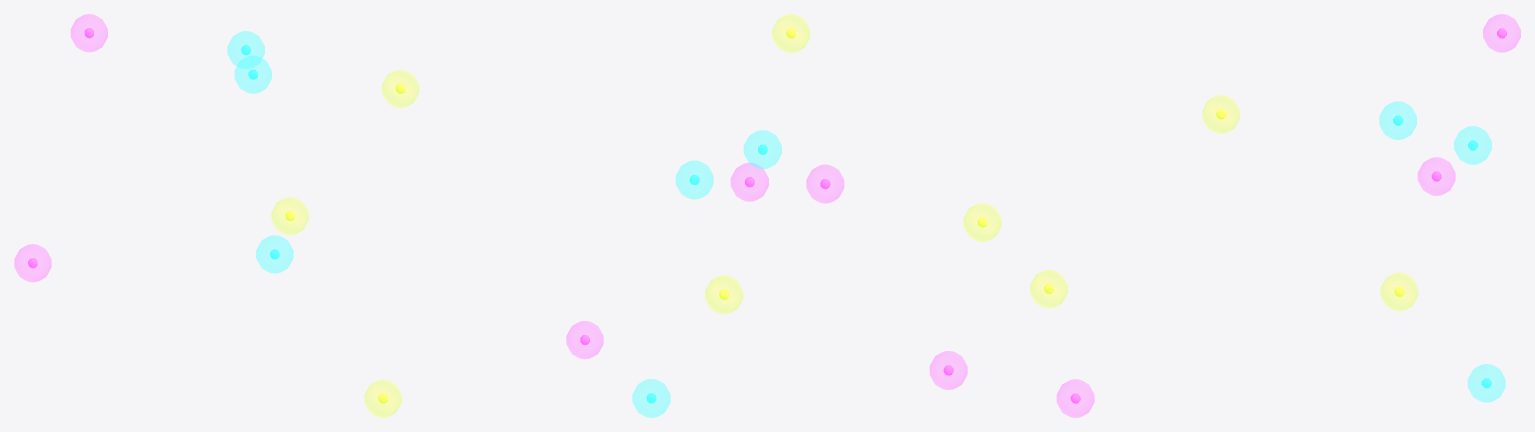
The model's file is city_glow_motes.glb.
3 views of the same model, side by side, from view 1: azimuth 30°, elevation 25°; view 2: azimuth 150°, elevation 25°; view 3: azimuth 270°, elevation 25° (orthographic).
Parts seen in each view (by area): view 1: CityGlowMotes_Mote0_Halo, CityGlowMotes_Mote4_Halo, CityGlowMotes_Mote2_Halo, CityGlowMotes_Mote5_Halo, CityGlowMotes_Mote1_Halo, CityGlowMotes_Mote6_Halo, CityGlowMotes_Mote7_Halo, CityGlowMotes_Mote3_Halo, CityGlowMotes_Mote8_Halo; view 2: CityGlowMotes_Mote0_Halo, CityGlowMotes_Mote2_Halo, CityGlowMotes_Mote4_Halo, CityGlowMotes_Mote8_Halo, CityGlowMotes_Mote3_Halo, CityGlowMotes_Mote7_Halo, CityGlowMotes_Mote5_Halo, CityGlowMotes_Mote6_Halo, CityGlowMotes_Mote1_Halo; view 3: CityGlowMotes_Mote4_Halo, CityGlowMotes_Mote0_Halo, CityGlowMotes_Mote1_Halo, CityGlowMotes_Mote8_Halo, CityGlowMotes_Mote6_Halo, CityGlowMotes_Mote2_Halo, CityGlowMotes_Mote3_Halo, CityGlowMotes_Mote7_Halo, CityGlowMotes_Mote5_Halo.
Part boxes in pixels (box(x1,y1,x2,y2)): CityGlowMotes_Mote0_Halo: box(256, 235, 293, 273); CityGlowMotes_Mote4_Halo: box(14, 244, 51, 281); CityGlowMotes_Mote2_Halo: box(364, 380, 401, 417); CityGlowMotes_Mote5_Halo: box(271, 197, 308, 234); CityGlowMotes_Mote1_Halo: box(566, 321, 603, 358); CityGlowMotes_Mote6_Halo: box(227, 31, 264, 68); CityGlowMotes_Mote7_Halo: box(71, 14, 107, 51); CityGlowMotes_Mote3_Halo: box(235, 55, 271, 93); CityGlowMotes_Mote8_Halo: box(382, 70, 418, 107); CityGlowMotes_Mote0_Halo: box(632, 379, 670, 417); CityGlowMotes_Mote2_Halo: box(963, 203, 1001, 241); CityGlowMotes_Mote4_Halo: box(930, 351, 967, 389); CityGlowMotes_Mote8_Halo: box(772, 14, 809, 52); CityGlowMotes_Mote3_Halo: box(744, 130, 781, 168); CityGlowMotes_Mote7_Halo: box(806, 164, 843, 203); CityGlowMotes_Mote5_Halo: box(705, 275, 742, 314); CityGlowMotes_Mote6_Halo: box(676, 160, 713, 199); CityGlowMotes_Mote1_Halo: box(731, 163, 768, 201); CityGlowMotes_Mote4_Halo: box(1418, 157, 1455, 195); CityGlowMotes_Mote0_Halo: box(1468, 364, 1505, 402); CityGlowMotes_Mote1_Halo: box(1057, 379, 1094, 417); CityGlowMotes_Mote8_Halo: box(1202, 95, 1239, 133); CityGlowMotes_Mote6_Halo: box(1454, 126, 1491, 164); CityGlowMotes_Mote2_Halo: box(1030, 270, 1067, 307); CityGlowMotes_Mote3_Halo: box(1379, 101, 1416, 139); CityGlowMotes_Mote7_Halo: box(1483, 14, 1520, 52); CityGlowMotes_Mote5_Halo: box(1380, 273, 1417, 310).
Bounding box in the file's own units: 2.68 × 1.88 × 2.78.
